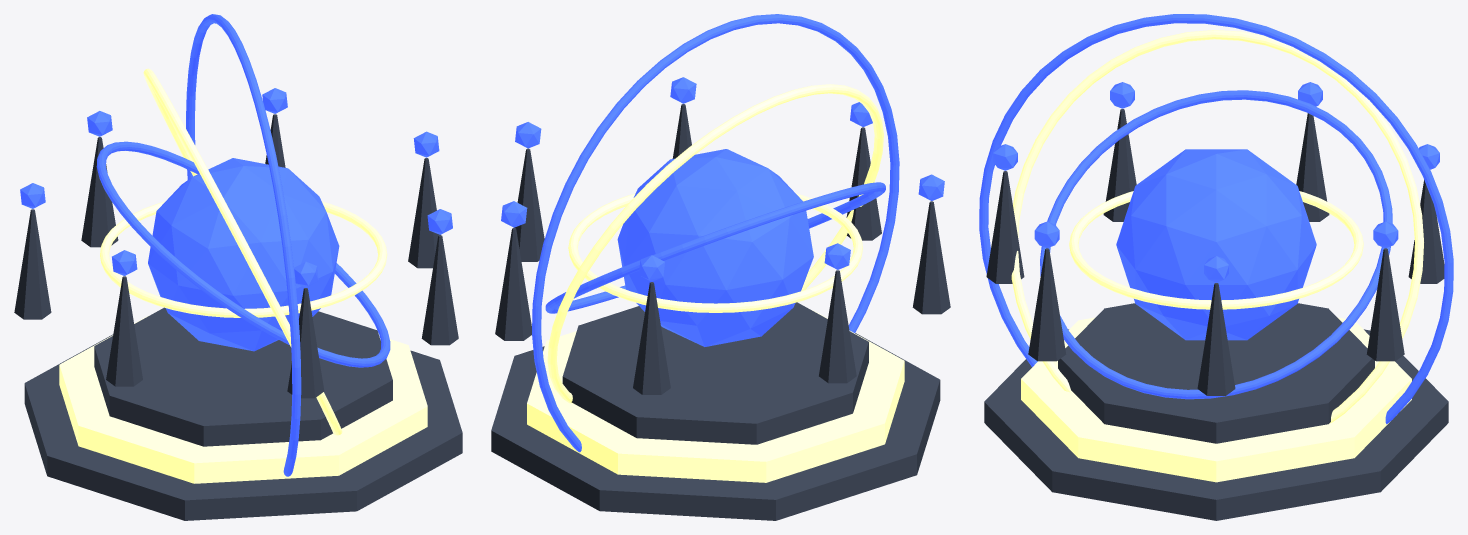
Rendered from gpu-blender-v31.glb.
3 views of the same model, side by side, from view 1: azimuth 30°, elevation 25°; view 2: azimuth 150°, elevation 25°; view 3: azimuth 270°, elevation 25° (orthographic). The views are drawn at different scales.
Visible parts, largest first — view 1: Cylinder.002, SovereignCore_pod-smart-router, Cylinder, Cylinder.001, Torus.003, Torus.001, Torus, Torus.002, Cone.003, Cone.006, Cone.004, Cone (+8 smaller); view 2: Cylinder.002, SovereignCore_pod-smart-router, Cylinder, Cylinder.001, Torus.003, Torus.002, Torus.001, Torus, Cone.003, Cone.004, Cone.002, Cone.001 (+9 smaller); view 3: SovereignCore_pod-smart-router, Cylinder.002, Cylinder, Cylinder.001, Torus.003, Torus.002, Torus.001, Torus, Cone.001, Cone.006, Cone, Cone.005 (+5 smaller).
Boxes of the visible parts, bbox=[...] form: Cylinder.002: bbox=[94, 307, 392, 446]; SovereignCore_pod-smart-router: bbox=[148, 158, 339, 351]; Cylinder: bbox=[24, 334, 462, 520]; Cylinder.001: bbox=[59, 315, 427, 483]; Torus.003: bbox=[186, 14, 301, 476]; Torus.001: bbox=[96, 141, 390, 367]; Torus: bbox=[100, 201, 387, 317]; Torus.002: bbox=[143, 68, 342, 435]; Cone.003: bbox=[14, 209, 51, 319]; Cone.006: bbox=[421, 235, 458, 345]; Cone.004: bbox=[106, 276, 142, 386]; Cone: bbox=[408, 158, 440, 268]; Cylinder.002: bbox=[562, 302, 868, 444]; SovereignCore_pod-smart-router: bbox=[617, 149, 813, 346]; Cylinder: bbox=[491, 333, 940, 520]; Cylinder.001: bbox=[527, 310, 904, 482]; Torus.003: bbox=[532, 14, 899, 452]; Torus.002: bbox=[547, 84, 883, 403]; Torus.001: bbox=[545, 182, 885, 313]; Torus: bbox=[568, 193, 862, 312]; Cone.003: bbox=[819, 270, 856, 383]; Cone.004: bbox=[912, 201, 950, 314]; Cone.002: bbox=[633, 282, 670, 394]; Cone.001: bbox=[495, 228, 531, 340]; SovereignCore_pod-smart-router: bbox=[1116, 149, 1316, 340]; Cylinder.002: bbox=[1058, 303, 1374, 443]; Cylinder: bbox=[984, 329, 1448, 520]; Cylinder.001: bbox=[1021, 317, 1411, 482]; Torus.003: bbox=[979, 14, 1453, 424]; Torus.002: bbox=[1011, 30, 1423, 422]; Torus.001: bbox=[1040, 90, 1392, 399]; Torus: bbox=[1069, 191, 1363, 309]; Cone.001: bbox=[1366, 248, 1404, 361]; Cone.006: bbox=[1028, 248, 1066, 361]; Cone: bbox=[1197, 283, 1235, 395]; Cone.005: bbox=[986, 171, 1024, 283].
Bounding box in the file's own units: 4.41 × 4.7 × 4.49.
